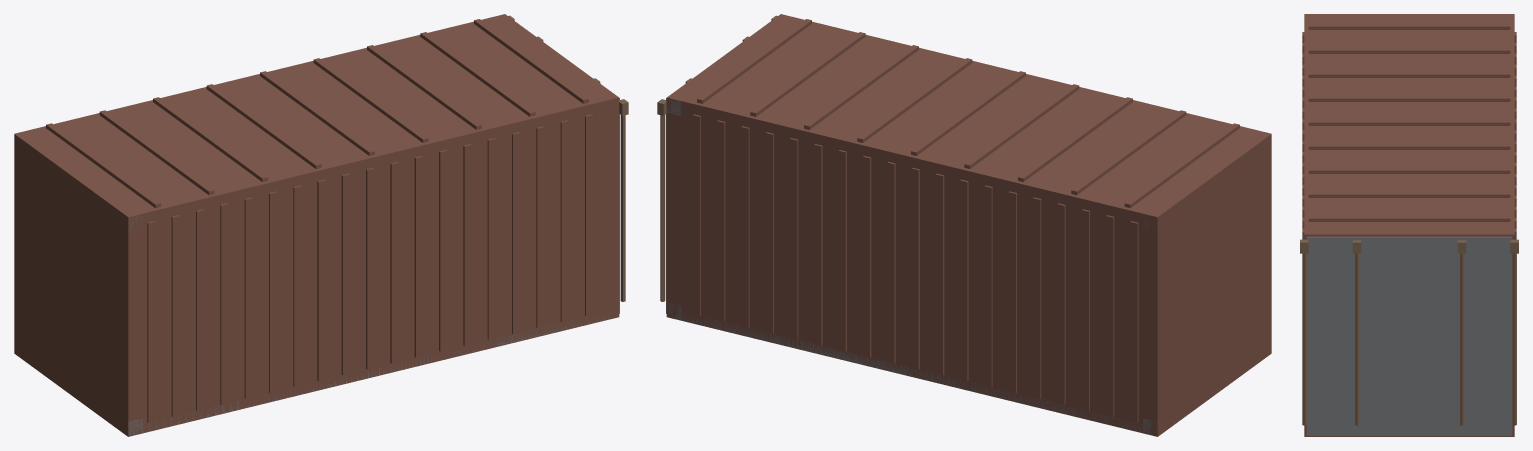
File: container_20ft.glb
3 renders of one model, left to right at view 1: azimuth 30°, elevation 25°; view 2: azimuth 150°, elevation 25°; view 3: azimuth 270°, elevation 25°, orthographic. The views are drawn at different scales.
Visible parts, largest first — view 1: container_20ft.001; view 2: container_20ft.001; view 3: container_20ft.001.
Boxes of the visible parts, <box> form: container_20ft.001: <box>14,14,628,436</box>; container_20ft.001: <box>657,14,1271,436</box>; container_20ft.001: <box>1300,14,1518,436</box>.
Bounding box in the file's own units: 6.15 × 2.63 × 2.54.
